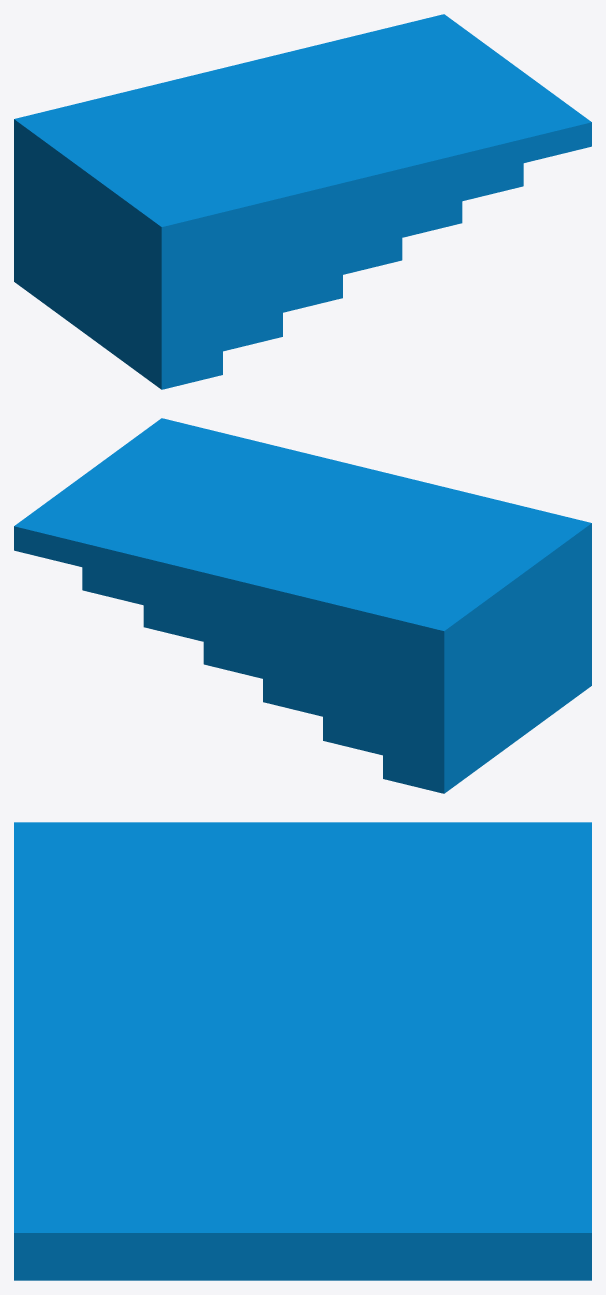
Rendered from Stair.fbx.
3 renders of one model, top to bottom at view 1: azimuth 30°, elevation 25°; view 2: azimuth 150°, elevation 25°; view 3: azimuth 270°, elevation 25°, orthographic. The views are drawn at different scales.
Visible parts, largest first — view 1: pCube2; view 2: pCube2; view 3: pCube2.
Part boxes in pixels (box(x1,y1,x2,y2)): pCube2: box(14, 14, 591, 389); pCube2: box(14, 418, 591, 793); pCube2: box(14, 822, 591, 1280).
Bounding box in the file's own units: 28.31 × 10.23 × 16.84.
